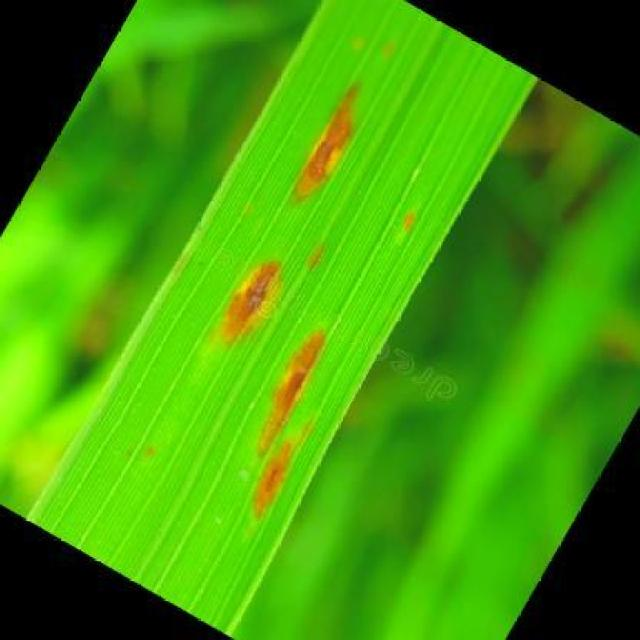Leaf_Blast: (281, 63, 382, 215), (241, 314, 342, 464), (203, 246, 299, 360), (231, 437, 312, 534), (390, 202, 432, 246), (298, 236, 333, 282)
